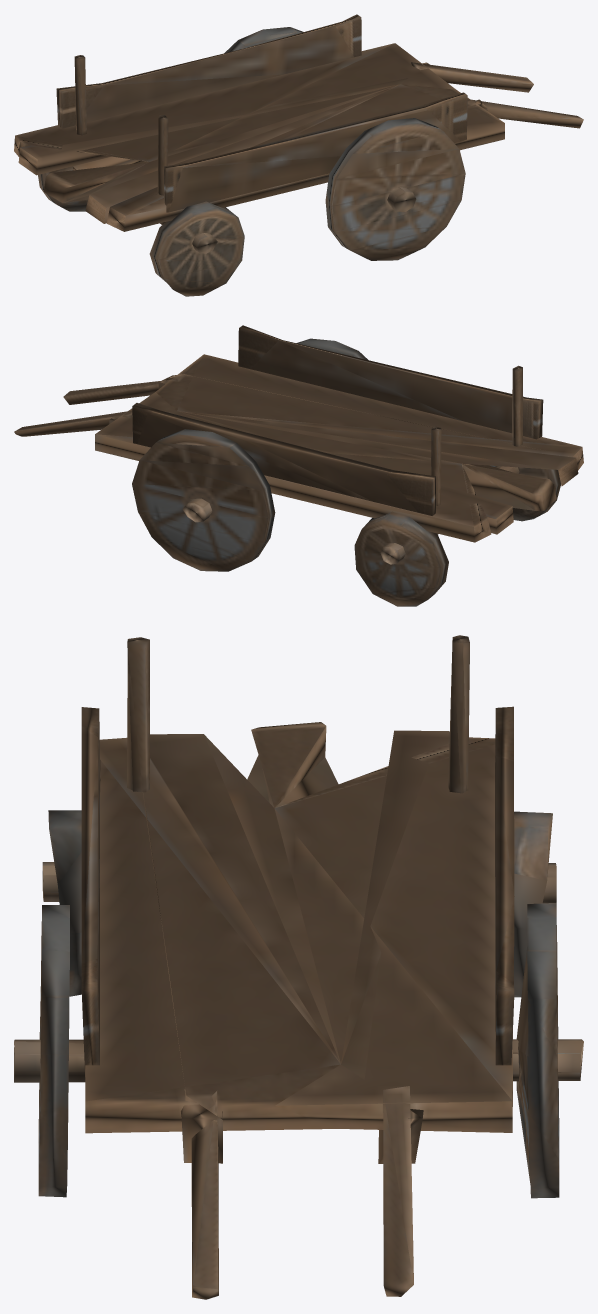
File: prop-cart.glb
The picture shows the model from 3 angles, top to bottom: view 1: azimuth 30°, elevation 25°; view 2: azimuth 150°, elevation 25°; view 3: azimuth 270°, elevation 25°; orthographic projection. The views are drawn at different scales.
Bounding box in the file's own units: 0.959 × 0.3169 × 0.4766.
Materials: 1 (1 with a texture image).
